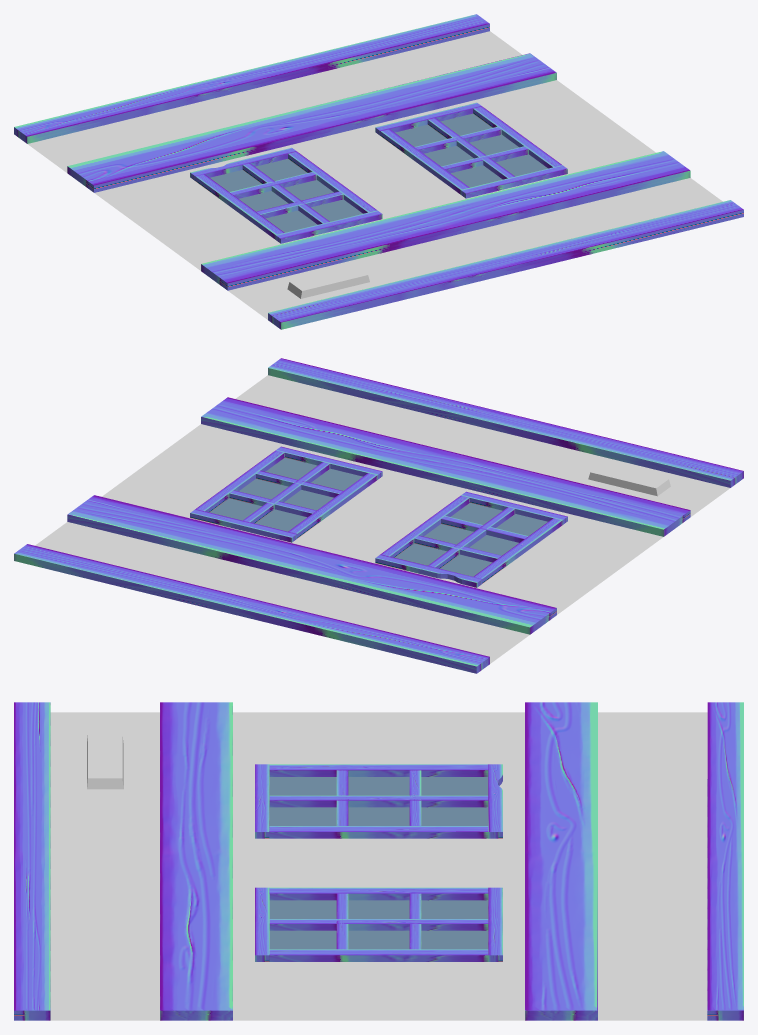
File: SM_Window_B.fbx
The picture shows the model from 3 angles, top to bottom: view 1: azimuth 30°, elevation 25°; view 2: azimuth 150°, elevation 25°; view 3: azimuth 270°, elevation 25°; orthographic projection. The views are drawn at different scales.
Parts seen in each view (by area): view 1: SM_Window_B; view 2: SM_Window_B; view 3: SM_Window_B.
Boxes of the visible parts, x1,y1,x2,y2 form: SM_Window_B: (14,14,743,329); SM_Window_B: (14,358,743,673); SM_Window_B: (14,702,743,1020).
Size of the model in its own units: 200 by 5 by 200.
